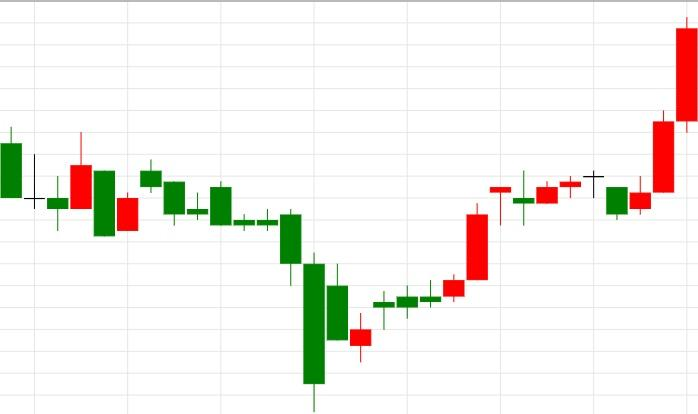three_white_soldiers_rise: (583, 17, 698, 220)
